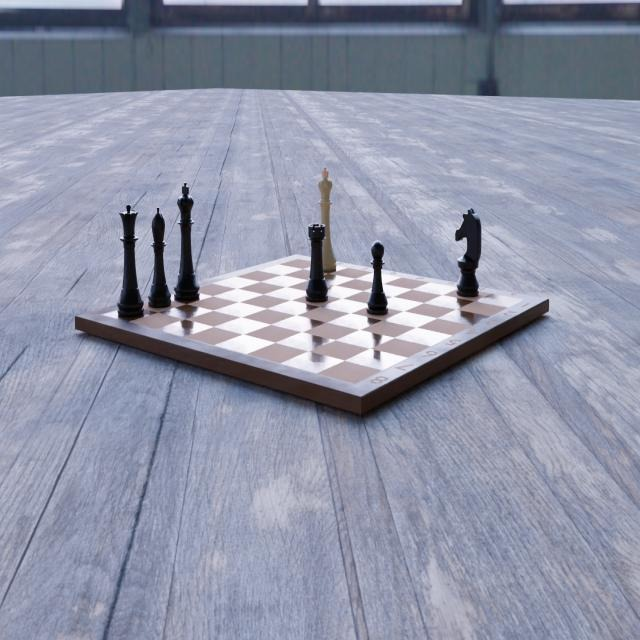black-bishop: (146, 204, 174, 310)
black-king: (170, 181, 202, 303)
black-knight: (453, 202, 483, 298)
black-pawn: (366, 235, 390, 321)
black-queen: (116, 199, 146, 321)
black-rook: (303, 218, 329, 305)
white-king: (315, 166, 339, 274)
